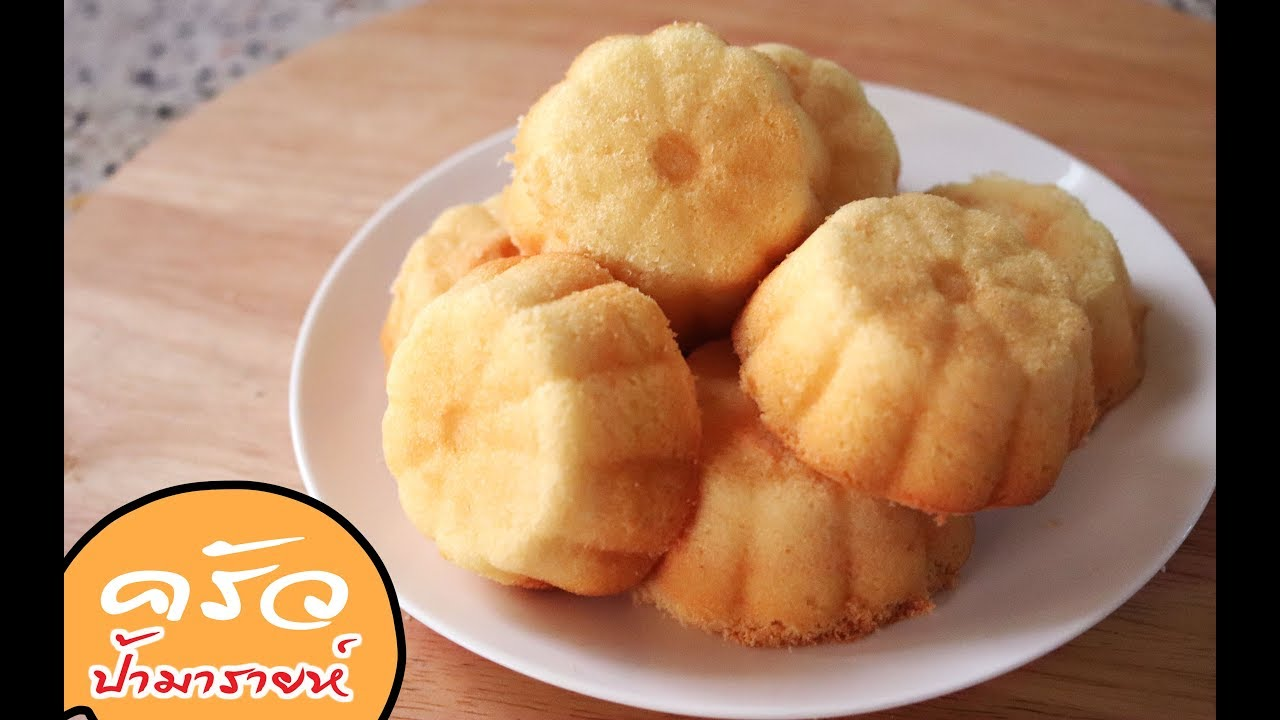kanomkai: (372, 233, 723, 641), (729, 168, 1107, 522)
